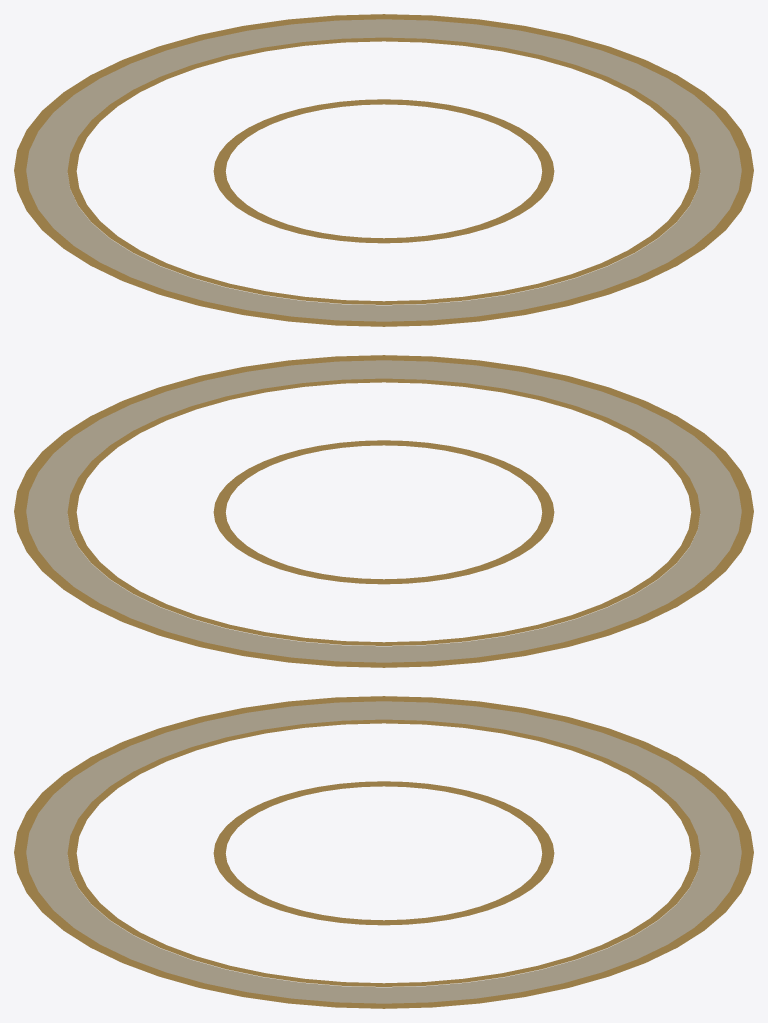
File: plaza_ring.glb
3 views of the same model, one above another, from view 1: azimuth 30°, elevation 25°; view 2: azimuth 150°, elevation 25°; view 3: azimuth 270°, elevation 25° (orthographic).
Visible parts, largest first — view 1: plaza_ring; view 2: plaza_ring; view 3: plaza_ring.
Part boxes in pixels (x1,y1,x2,y2): plaza_ring: [14, 14, 753, 326]; plaza_ring: [14, 355, 753, 667]; plaza_ring: [14, 696, 753, 1008].
Bounding box in the file's own units: 12.16 × 0.021 × 12.16.
